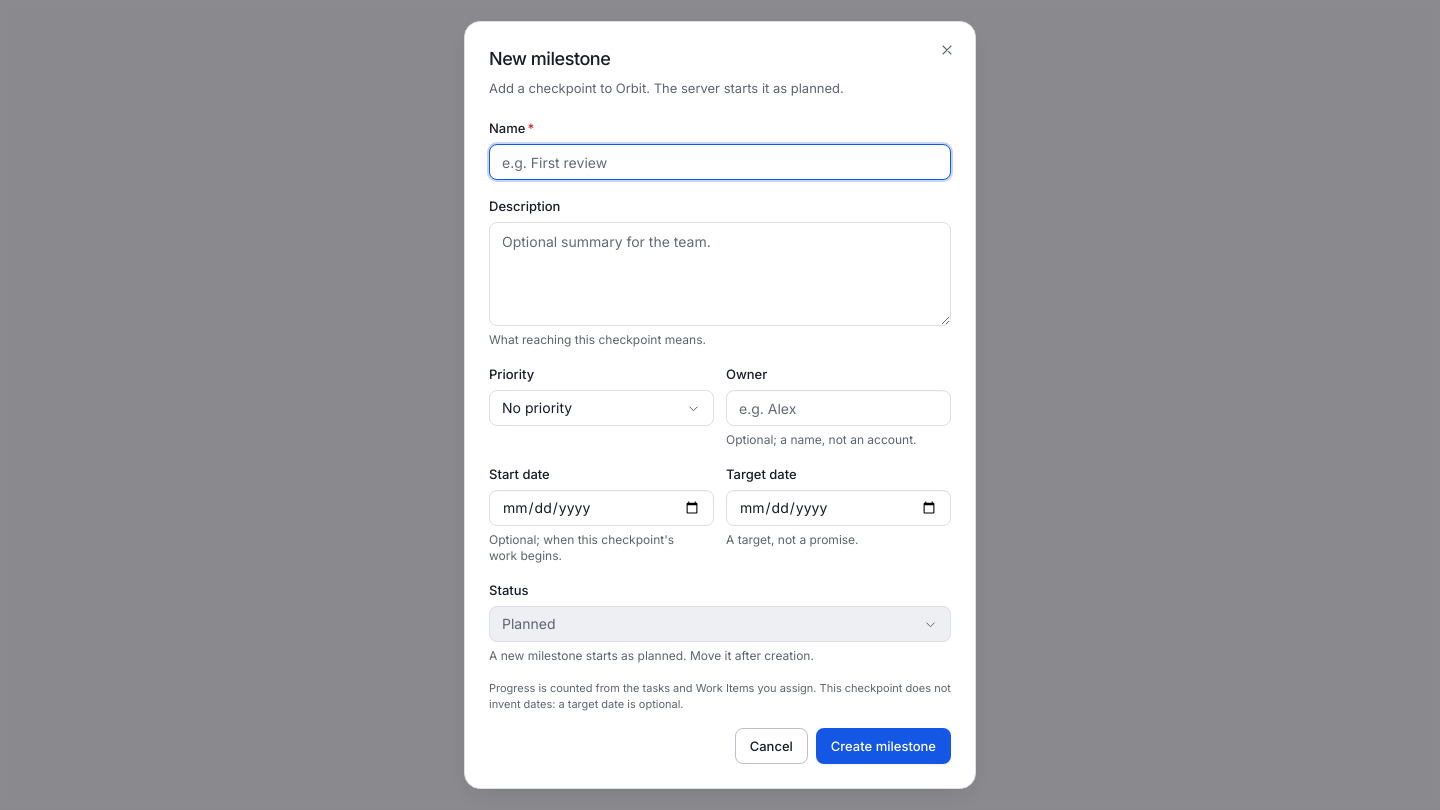
Scenario: milestone create dialog › refuses a start date after the target without sending a command
Type "First review" into the field labelled "Name*" at (720, 162), box [489,144,951,180]
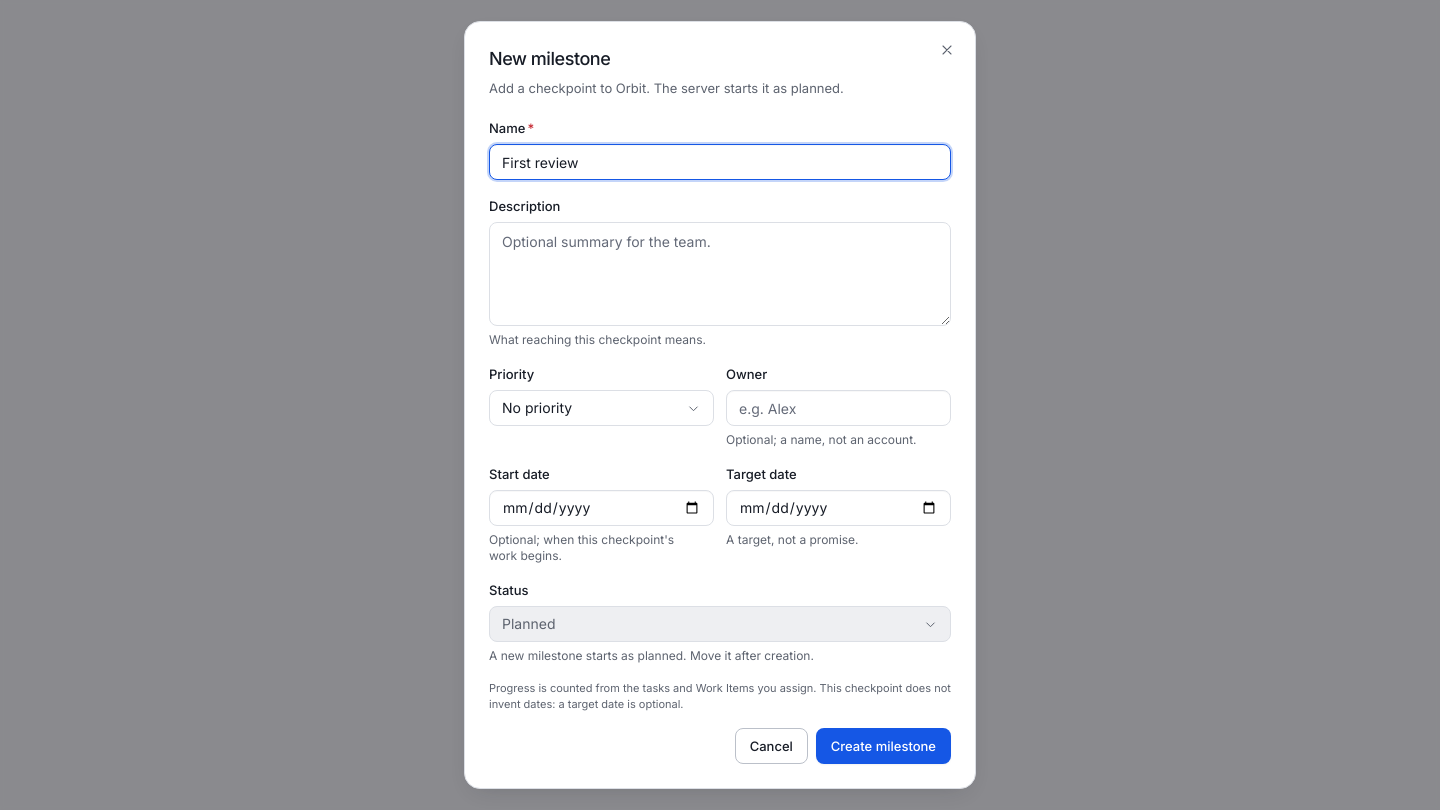
Type "2026-10-20" into the date field labelled "Start date" at (602, 508), box [489,490,714,526]
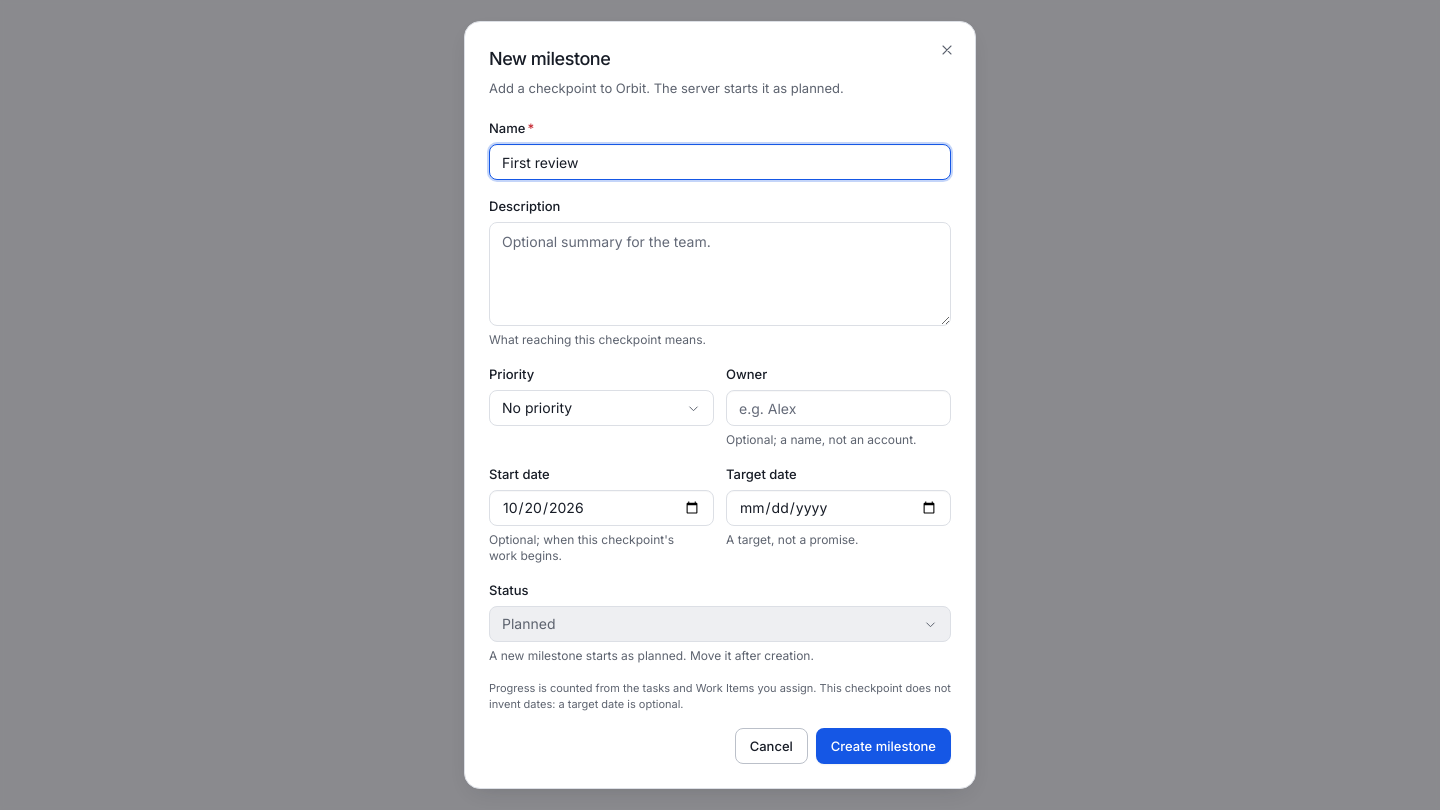
Type "2026-10-01" into the date field labelled "Target date" at (838, 508), box [726,490,951,526]
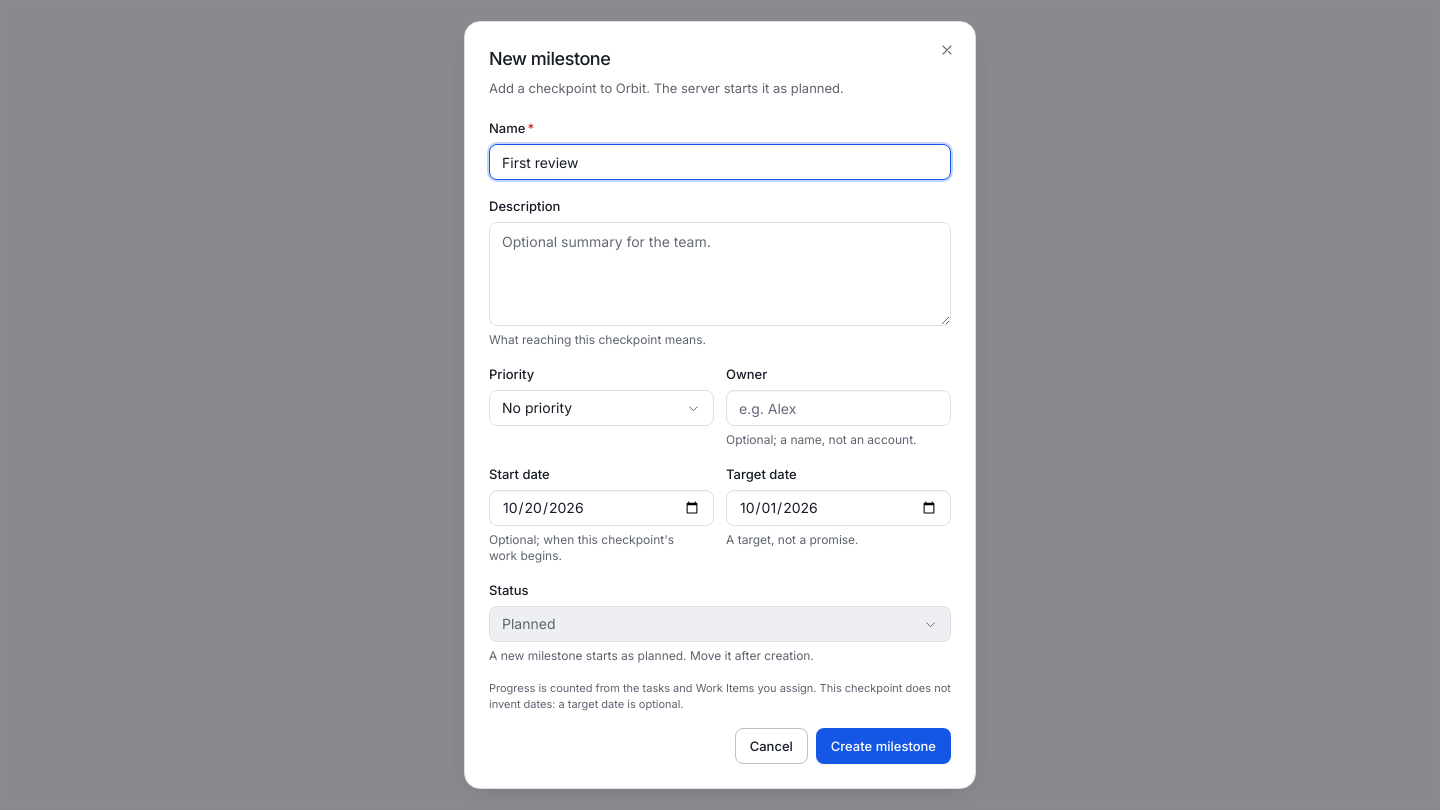
Click the button "Create milestone" at (883, 746), box [816,728,951,764]
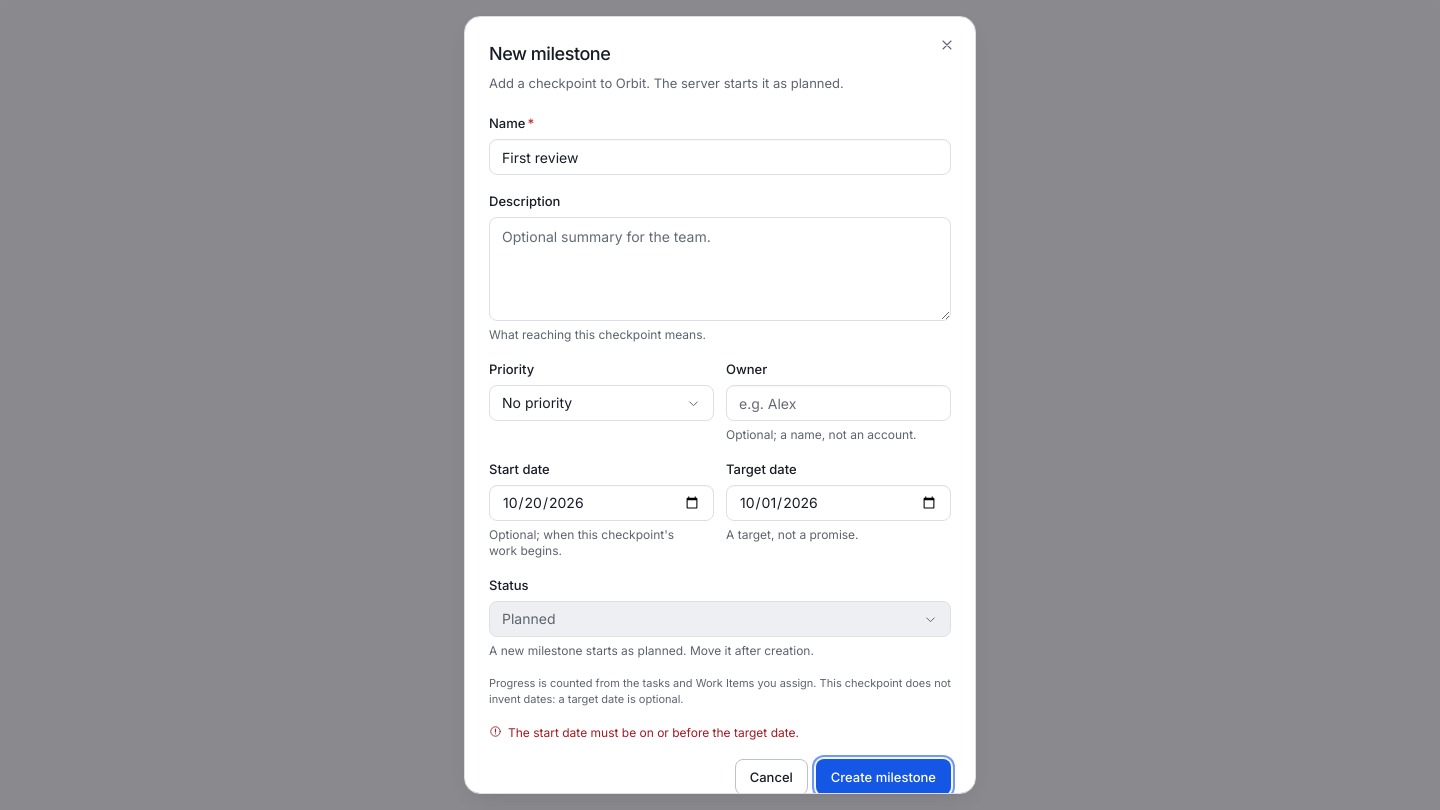
Expected: the text "The start date must be on or before the target date." is shown, [489,725,799,740]
